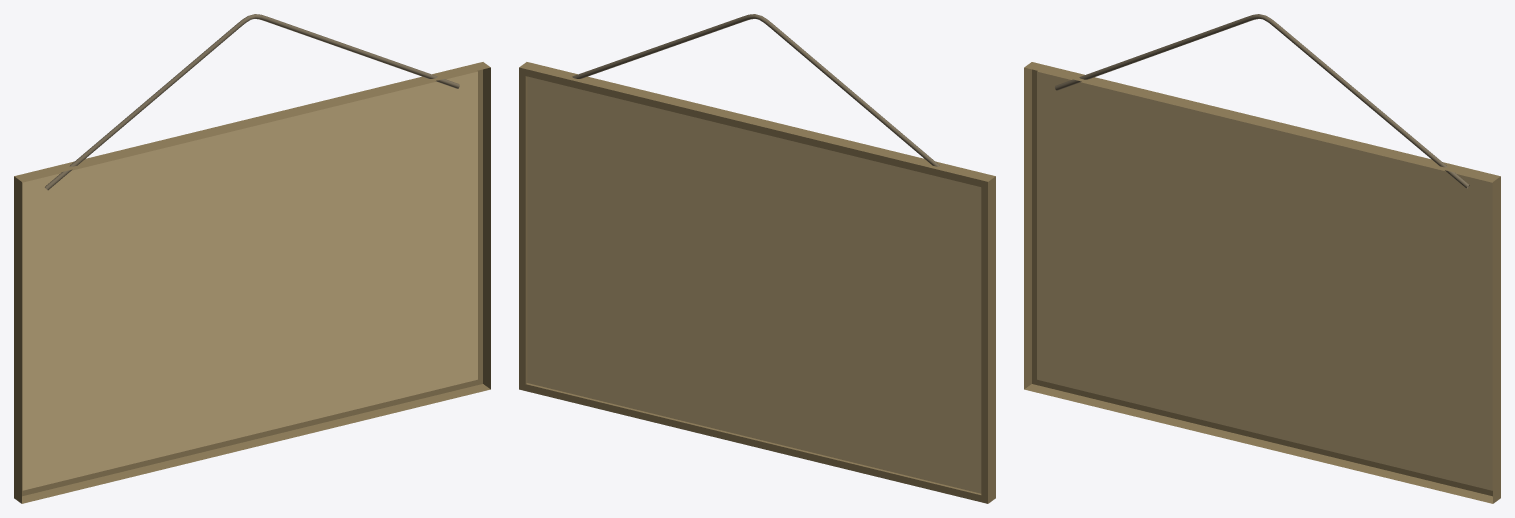
File: BulletinBoard.fbx
3 views of the same model, side by side, from view 1: azimuth 30°, elevation 25°; view 2: azimuth 150°, elevation 25°; view 3: azimuth 330°, elevation 25° (orthographic).
Parts seen in each view (by area): view 1: Board, Rope1; view 2: Board, Rope1; view 3: Board, Rope1.
Part boxes in pixels (x1,y1,x2,y2): Board: (14, 62, 490, 503); Rope1: (45, 14, 459, 190); Board: (519, 62, 995, 503); Rope1: (572, 14, 940, 166); Board: (1024, 62, 1500, 503); Rope1: (1055, 14, 1469, 188).
Bounding box in the file's own units: 204 × 178 × 5.84.
